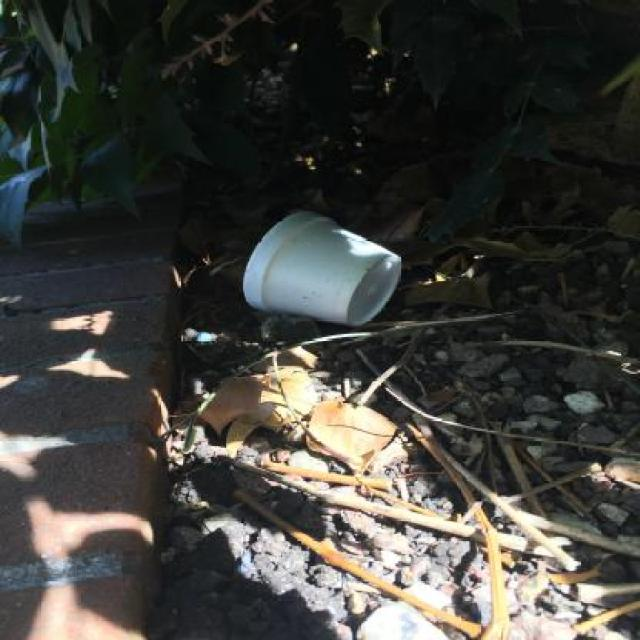foam: (241, 211, 404, 326)
